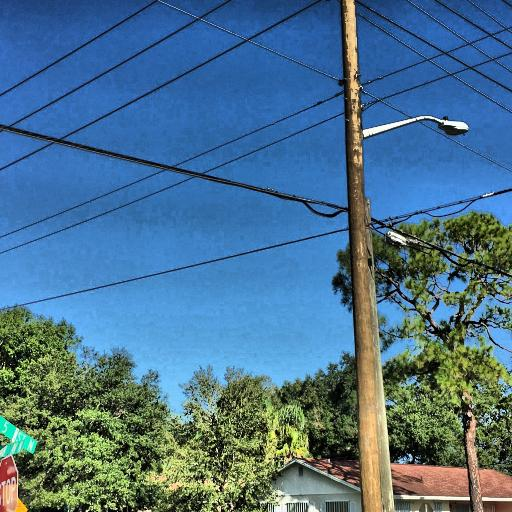pole: (272, 0, 488, 512)
street light: (347, 89, 477, 156)
